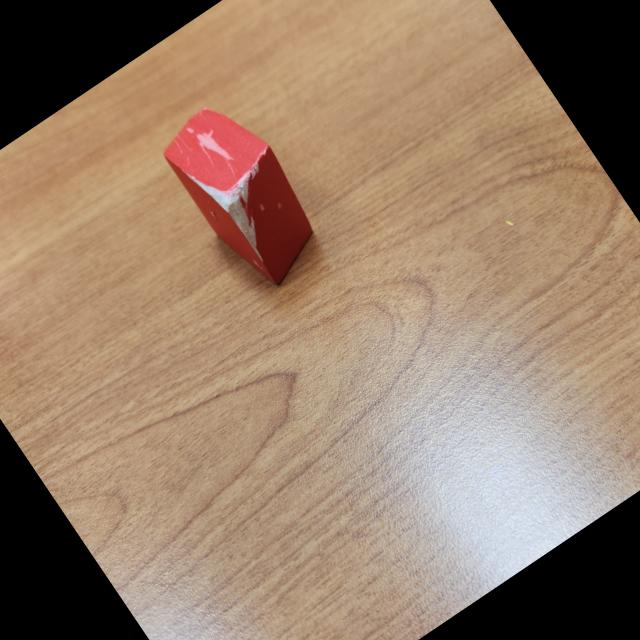broken: (152, 87, 338, 298)
